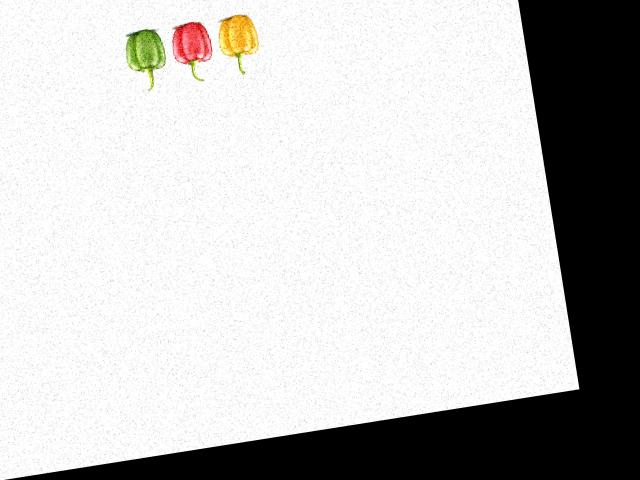bell_pepper: (117, 24, 170, 94)
